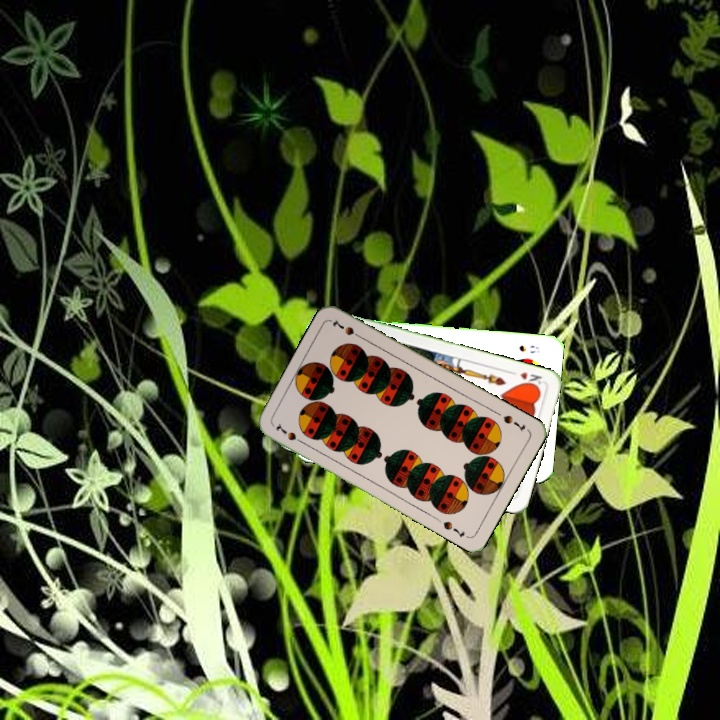HK: (516, 368, 544, 390)
S7: (271, 420, 307, 447), (499, 411, 528, 435)
S8: (515, 341, 542, 356)
